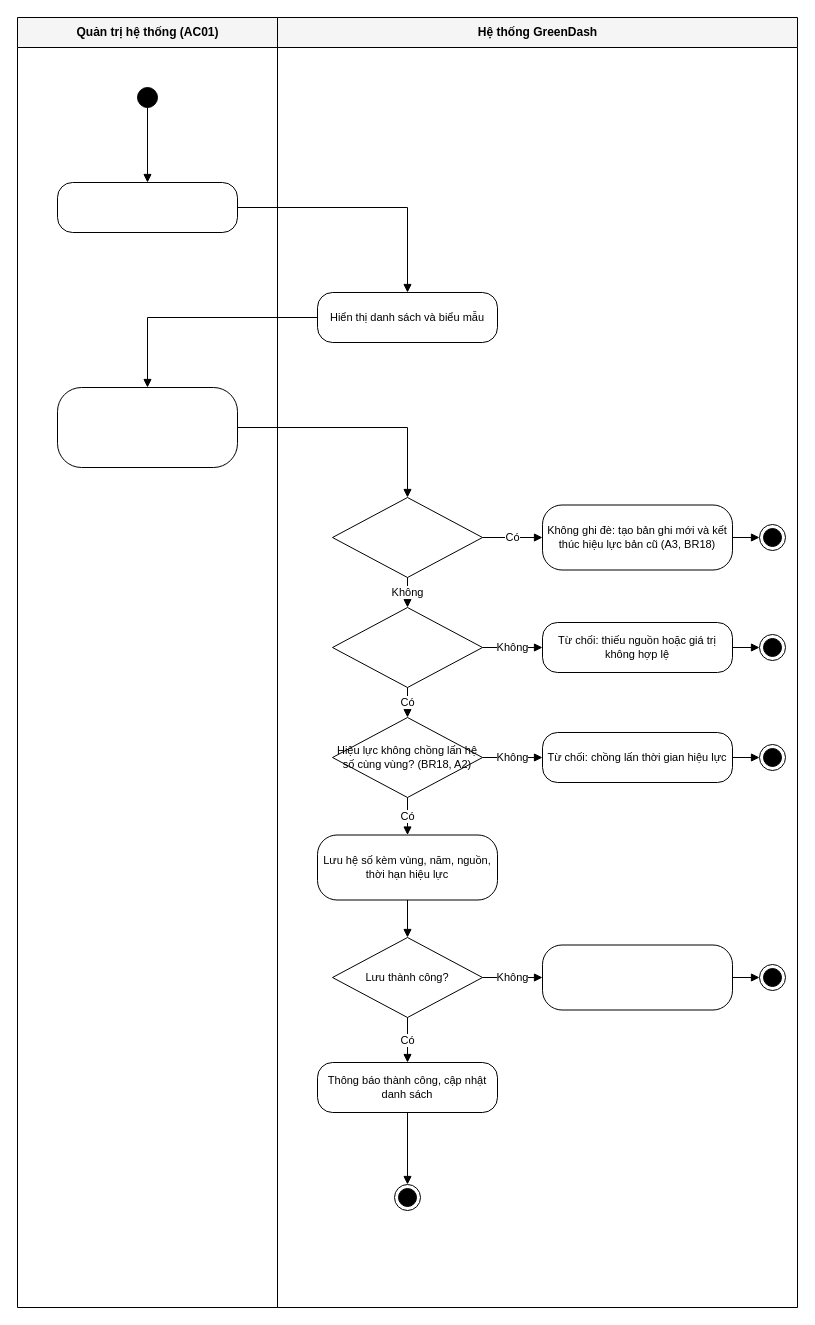
Image size: 815x1325. Some labels were removed from this diagram. The box of each missing label's shape, as (x1, y1, x2, y2) in pixels:
Giá trị > 0 và có nguồn tham khảo? (A1): (332, 606, 482, 688)
Mở màn hình Hệ số phát thải, chọn thao tác: (56, 182, 238, 232)
Rollback, giữ nguyên dữ liệu đã nhập trên biểu mẫu (E1): (542, 944, 732, 1010)
Thao tác là: Sửa hệ số đã dùng để tính?: (332, 496, 482, 578)
Thêm hoặc Sửa: nhập thông tin, nhấn Lưu; hoặc chọn: Sửa hệ số đã dùng để tính: (56, 386, 238, 468)
